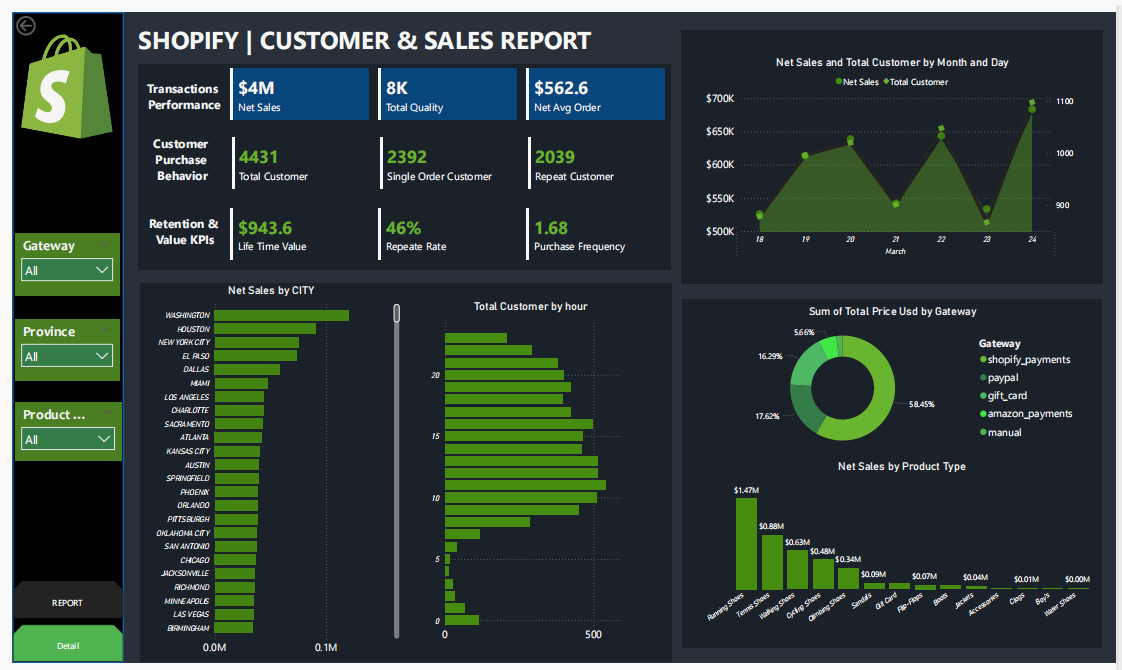

The dashboard page shown, as its layout file describes it:
{"tool":"powerbi","page":{"name":"REPORT","canvas":[1700,1000],"ordinal":0},"visuals":[{"type":"shape","box":[0,0,170.1,1000],"z":0},{"type":"shape","box":[1030,26.9,647.9,391.1],"z":1000},{"type":"textbox","box":[188.7,10.6,821.2,61.1],"z":2000},{"type":"shape","box":[194,79.7,818.5,316.2],"z":3000},{"type":"cardVisual","fields":{"Data":["shopify_sales.Net Sales","shopify_sales.Total Quality","shopify_sales.Net Avg Order"]},"box":[329.5,79.7,680.3,90.4],"z":4000},{"type":"cardVisual","fields":{"Data":["shopify_sales.Total Customer","shopify_sales.Single Order Customer","shopify_sales.Repeat Customer"]},"box":[332.2,187.4,680.3,90.3],"z":5000},{"type":"cardVisual","fields":{"Data":["shopify_sales.Life Time Value","shopify_sales.Repeate Rate","shopify_sales.Purchase Frequency"]},"box":[329.5,295,680.3,90.3],"z":6000},{"type":"textbox","box":[196.7,98.3,135.5,71.8],"z":7000},{"type":"textbox","box":[194,183.4,135.5,103.6],"z":8000},{"type":"textbox","box":[172.7,305.6,186,79.7],"z":9000},{"type":"shape","box":[196.7,417.2,818.5,582],"z":10000},{"type":"clusteredBarChart","fields":{"Category":["shopify_sales.CITY"],"Y":["shopify_sales.Net Sales"]},"box":[197,416.6,402.5,582.6],"z":11000},{"type":"actionButton","box":[0,0,100,40],"z":12000},{"type":"areaChart","fields":{"Category":["shopify_sales.Invoice Date.Variation.Date Hierarchy.Month","shopify_sales.Invoice Date.Variation.Date Hierarchy.Day"],"Y":["shopify_sales.Net Sales"],"Y2":["shopify_sales.Total Customer"]},"box":[1062.9,65.7,585.2,319.5],"z":13000},{"type":"clusteredBarChart","fields":{"Category":["shopify_sales.hour"],"Y":["shopify_sales.Total Customer"]},"box":[638.9,441.9,319.5,537.4],"z":14000},{"type":"shape","box":[1031.1,441.1,645.8,536.8],"z":15000},{"type":"donutChart","fields":{"Y":["Sum(shopify_sales.Total Price Usd)"],"Category":["shopify_sales.Gateway"]},"box":[1063,449.1,584.6,239.2],"z":16000},{"type":"clusteredColumnChart","fields":{"Category":["shopify_sales.Product Type"],"Y":["shopify_sales.Net Sales"]},"box":[1063,688.3,613.9,268.4],"z":17000},{"type":"image","box":[8,21.3,151.5,183.4],"z":18000},{"type":"slicer","fields":{"Values":["shopify_sales.Gateway"]},"box":[3,340.4,161.2,95.5],"z":19000},{"type":"slicer","fields":{"Values":["shopify_sales.Billing Address Province"]},"box":[3,471.7,161.2,95.5],"z":20000},{"type":"slicer","fields":{"Values":["shopify_sales.Product Type"]},"box":[3,600.1,164.2,89.6],"z":21000},{"type":"pageNavigator","box":[0,874.8,170.2,125.4],"z":22000}]}

Visuals, with their boxes on the page's 1700x1000 design canvas (x1, y1, x2, y2). These are canvas units, not pixel positions in the 1122x670 screenshot, which may show the page scaled, cropped or inside an application window:
shape: region(0, 0, 170, 1000)
shape: region(1030, 27, 1678, 418)
textbox: region(189, 11, 1010, 72)
shape: region(194, 80, 1012, 396)
cardVisual - shopify_sales.Net Sales x shopify_sales.Total Quality: region(330, 80, 1010, 170)
cardVisual - shopify_sales.Total Customer x shopify_sales.Single Order Customer: region(332, 187, 1012, 278)
cardVisual - shopify_sales.Life Time Value x shopify_sales.Repeate Rate: region(330, 295, 1010, 385)
textbox: region(197, 98, 332, 170)
textbox: region(194, 183, 330, 287)
textbox: region(173, 306, 359, 385)
shape: region(197, 417, 1015, 999)
clusteredBarChart - shopify_sales.CITY x shopify_sales.Net Sales: region(197, 417, 600, 999)
actionButton: region(0, 0, 100, 40)
areaChart - shopify_sales.Invoice Date.Variation.Date Hierarchy.Month x shopify_sales.Invoice Date.Variation.Date Hierarchy.Day: region(1063, 66, 1648, 385)
clusteredBarChart - shopify_sales.hour x shopify_sales.Total Customer: region(639, 442, 958, 979)
shape: region(1031, 441, 1677, 978)
donutChart - Sum(shopify_sales.Total Price Usd) x shopify_sales.Gateway: region(1063, 449, 1648, 688)
clusteredColumnChart - shopify_sales.Product Type x shopify_sales.Net Sales: region(1063, 688, 1677, 957)
image: region(8, 21, 160, 205)
slicer - shopify_sales.Gateway: region(3, 340, 164, 436)
slicer - shopify_sales.Billing Address Province: region(3, 472, 164, 567)
slicer - shopify_sales.Product Type: region(3, 600, 167, 690)
pageNavigator: region(0, 875, 170, 1000)
